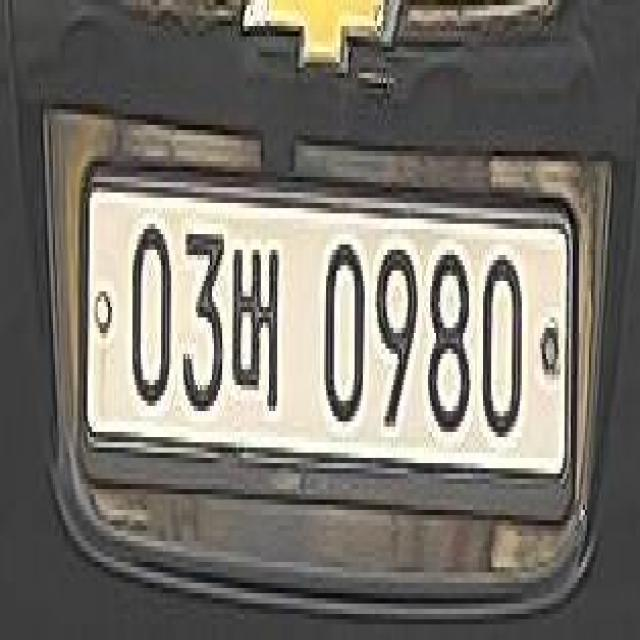illegal_plate: (80, 160, 578, 532)
